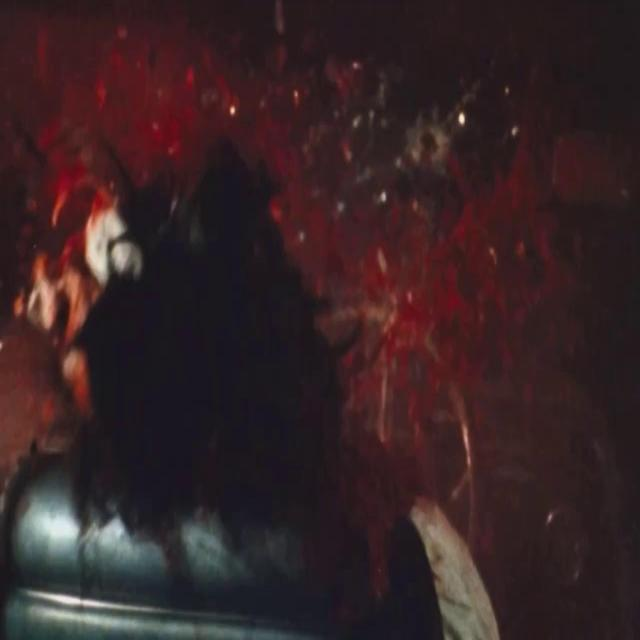flood: (75, 40, 240, 146), (367, 222, 460, 384)
